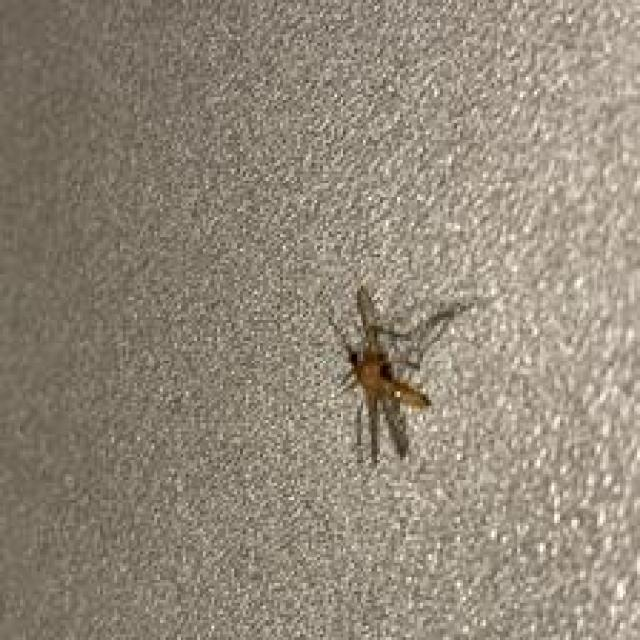Culex: (324, 283, 499, 466)
